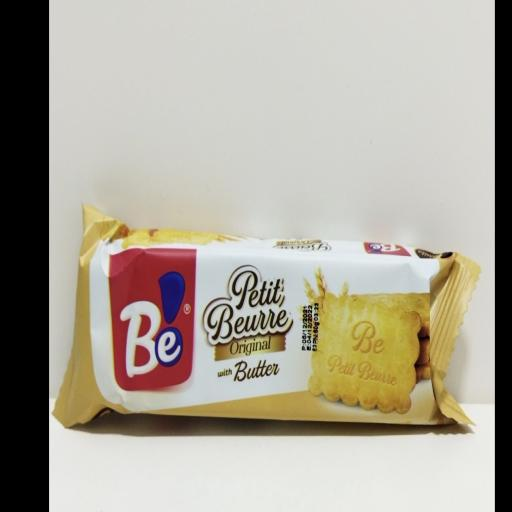petit_beurre: (58, 170, 475, 478)
